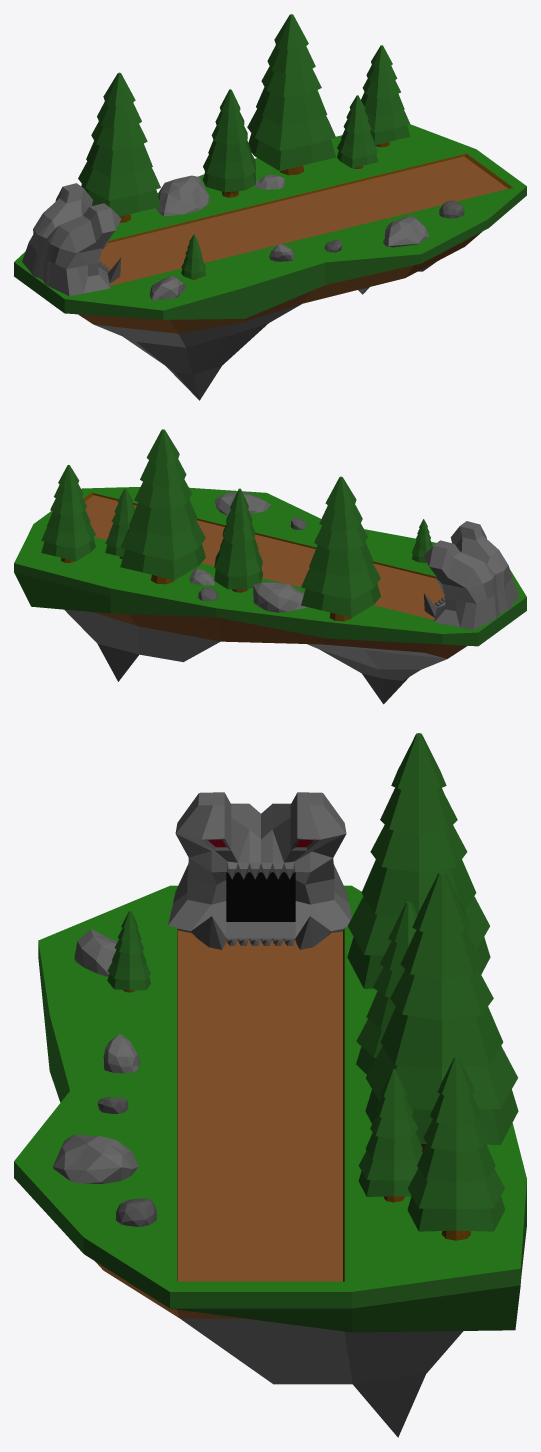
Rendered from Board.fbx.
3 renders of one model, top to bottom at view 1: azimuth 30°, elevation 25°; view 2: azimuth 150°, elevation 25°; view 3: azimuth 270°, elevation 25°, orthographic. The views are drawn at different scales.
Parts seen in each view (by area): view 1: Cube, Pine1.002, Cube.001, Pine1, Pine3.001, Pine1.001, Pine1.003, Icosphere.006, Icosphere.008, Pine2.001, Icosphere.004; view 2: Cube, Pine1.002, Pine1, Cube.001, Pine1.001, Pine3.001, Icosphere.006, Pine1.003, Icosphere.008, Pine2.001, Icosphere.007; view 3: Cube, Cube.001, Pine1.002, Pine1, Pine1.001, Pine1.003, Pine3.001, Icosphere.008, Pine2.001, Icosphere.004, Icosphere.005, Icosphere.002.
Part boxes in pixels (left/top/right/bottom): Cube: left=14, top=124, right=526, bottom=400; Pine1.002: left=247, top=14, right=336, bottom=175; Cube.001: left=22, top=183, right=121, bottom=296; Pine1: left=78, top=72, right=160, bottom=222; Pine3.001: left=203, top=89, right=255, bottom=197; Pine1.001: left=361, top=45, right=410, bottom=147; Pine1.003: left=337, top=95, right=378, bottom=168; Icosphere.006: left=156, top=175, right=210, bottom=216; Icosphere.008: left=383, top=216, right=428, bottom=247; Pine2.001: left=181, top=234, right=205, bottom=279; Icosphere.004: left=149, top=276, right=185, bottom=299; Cube: left=14, top=487, right=526, bottom=704; Pine1.002: left=120, top=429, right=205, bottom=584; Pine1: left=301, top=476, right=380, bottom=621; Cube.001: left=423, top=521, right=518, bottom=629; Pine1.001: left=41, top=465, right=95, bottom=562; Pine3.001: left=214, top=488, right=262, bottom=592; Icosphere.006: left=253, top=581, right=306, bottom=612; Pine1.003: left=105, top=488, right=135, bottom=559; Icosphere.008: left=214, top=492, right=270, bottom=515; Pine2.001: left=412, top=519, right=432, bottom=562; Icosphere.007: left=189, top=568, right=214, bottom=585; Cube: left=14, top=885, right=526, bottom=1437; Cube.001: left=168, top=792, right=351, bottom=949; Pine1.002: left=365, top=871, right=518, bottom=1151; Pine1: left=347, top=733, right=490, bottom=988; Pine1.001: left=407, top=1056, right=505, bottom=1240; Pine1.003: left=358, top=1069, right=422, bottom=1202; Pine3.001: left=356, top=901, right=417, bottom=1074; Icosphere.008: left=52, top=1134, right=138, bottom=1183; Pine2.001: left=107, top=911, right=150, bottom=992; Icosphere.004: left=74, top=929, right=117, bottom=976; Icosphere.005: left=103, top=1033, right=140, bottom=1073; Icosphere.002: left=116, top=1198, right=156, bottom=1226.
Bounding box in the file's own units: 5895 × 3611 × 3146.
